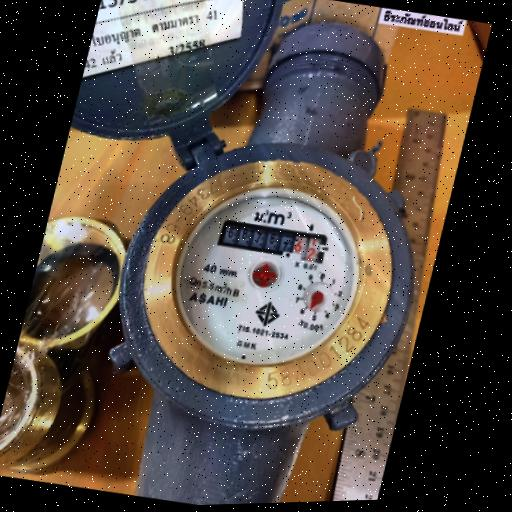2: (304, 238, 320, 261)
6: (222, 223, 239, 244), (264, 230, 281, 250), (292, 234, 307, 254)
7: (250, 228, 265, 248), (279, 232, 293, 252)
8: (237, 226, 252, 246)
border_water_meter_number: (216, 216, 330, 266)
